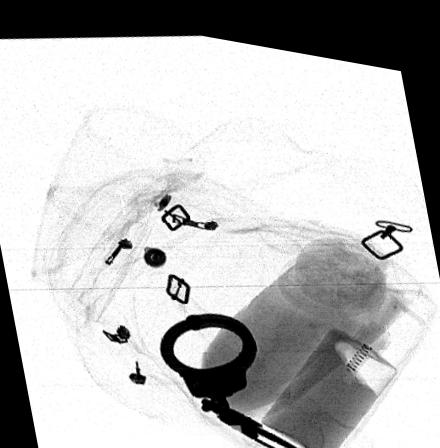HandCuffs: (160, 305, 323, 448)
